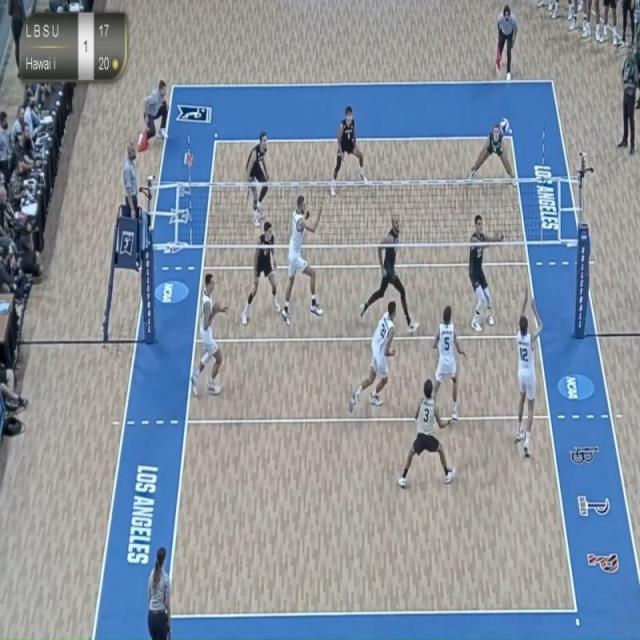volleyball: (498, 116, 512, 140)
